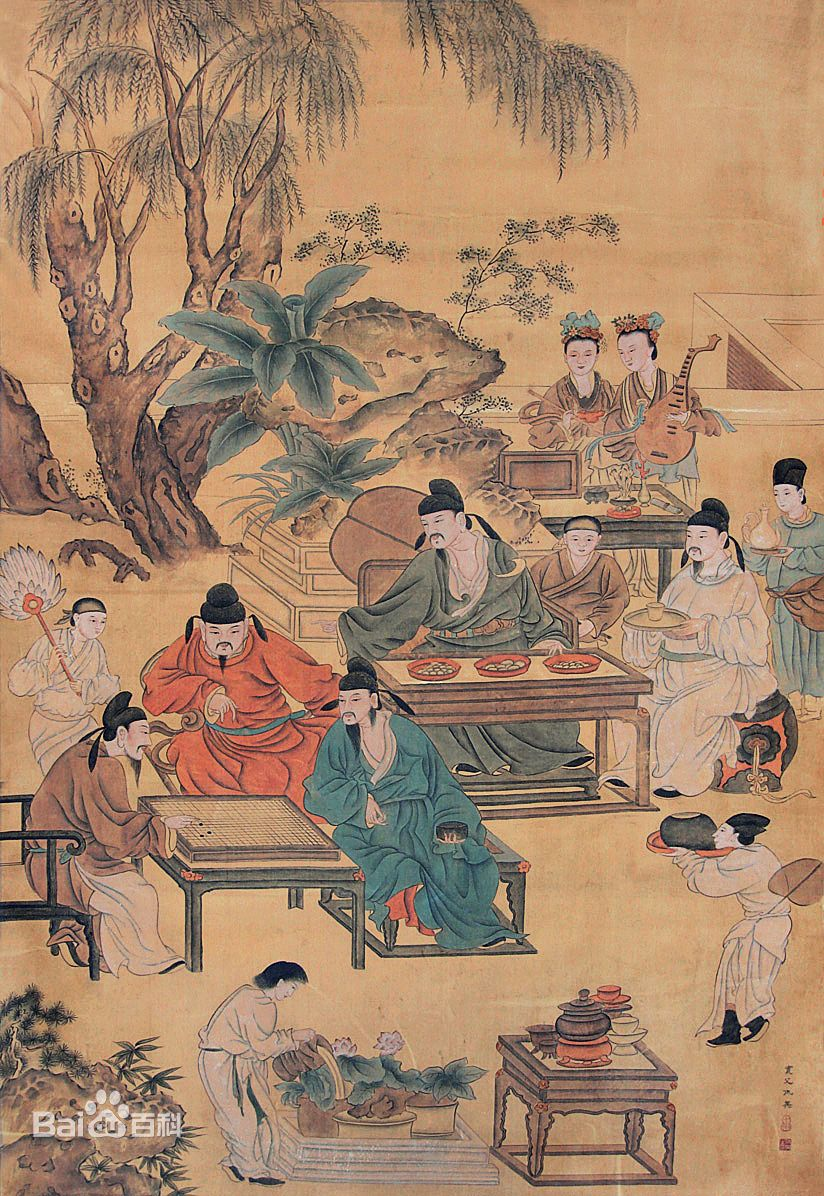bowl: (522, 1020, 644, 1069), (651, 815, 716, 850), (400, 653, 460, 678), (747, 521, 779, 555), (480, 654, 530, 674), (551, 656, 590, 670)
chessboard: (151, 796, 322, 864)
decoration: (595, 477, 652, 511)
fan: (2, 550, 60, 622), (778, 864, 824, 907)
grass: (193, 300, 359, 411), (309, 219, 407, 264), (441, 291, 550, 326), (464, 258, 570, 292), (284, 458, 366, 497), (498, 219, 619, 239), (304, 435, 371, 458)
guqin: (649, 386, 697, 460), (683, 339, 718, 389)
kid: (203, 963, 304, 1172), (555, 526, 613, 636)
lotus: (299, 1063, 481, 1106), (328, 1032, 421, 1065)
man: (330, 664, 511, 949), (641, 517, 768, 802), (31, 746, 161, 968), (170, 611, 326, 791), (380, 502, 532, 654), (19, 611, 121, 740), (728, 821, 784, 1032), (783, 470, 824, 700), (673, 856, 719, 886)
table: (513, 1074, 680, 1182), (399, 687, 637, 715), (185, 868, 365, 888), (531, 487, 595, 524), (632, 706, 654, 810), (184, 896, 204, 972), (474, 811, 646, 819), (350, 902, 364, 958)
tree: (55, 5, 641, 160), (55, 238, 197, 559), (12, 154, 289, 243)
woman: (542, 327, 614, 474), (612, 322, 652, 465)
